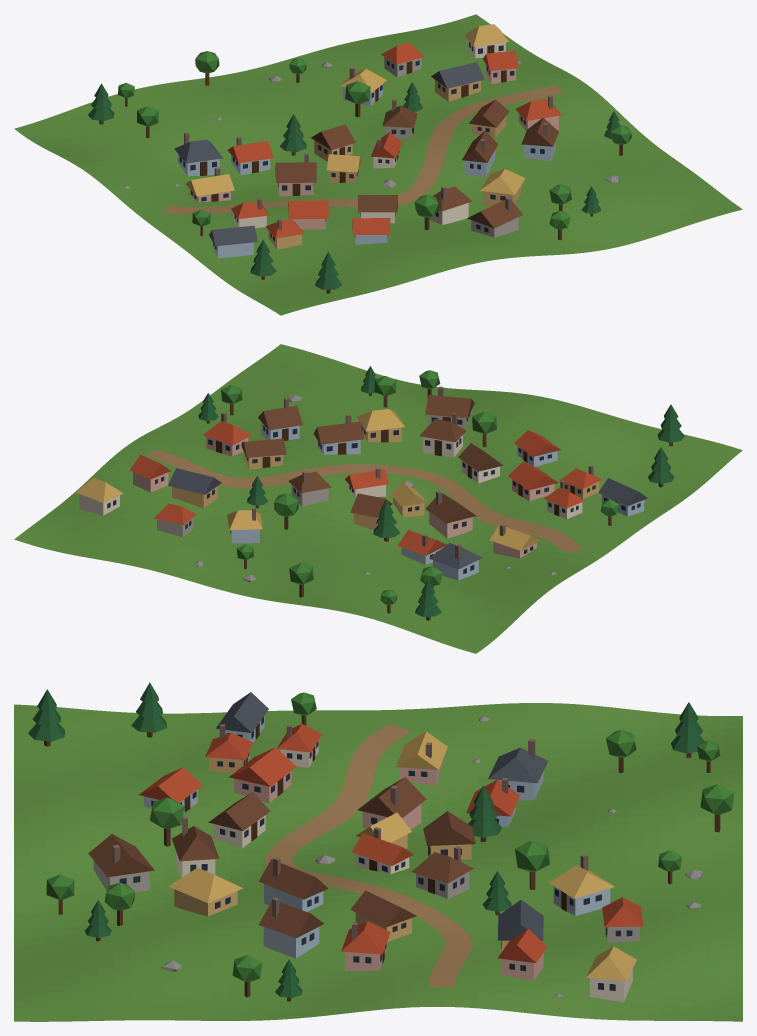
File: village_seed2.glb
3 views of the same model, one above another, from view 1: azimuth 30°, elevation 25°; view 2: azimuth 150°, elevation 25°; view 3: azimuth 270°, elevation 25° (orthographic). The views are drawn at different scales.
Visible parts, largest first — view 1: Ground_and_Path, house_19_roof, house_17_roof, house_04_roof, house_21_roof, house_25_roof, house_15_roof, house_06_roof, house_16_roof, house_23_roof, house_12_roof, house_14_roof (+24 smaller); view 2: Ground_and_Path, house_04_roof, house_11_roof, house_19_roof, house_02_roof, house_06_roof, house_17_roof, house_21_roof, house_25_roof, house_07_roof, house_15_roof, house_10_roof (+25 smaller); view 3: Ground_and_Path, house_04_roof, house_06_roof, house_15_roof, house_11_roof, house_17_roof, house_21_roof, house_19_roof, house_02_roof, house_14_roof, house_16_roof, house_12_roof (+44 smaller).
Boxes of the visible parts, <box> form: Ground_and_Path: <box>14,14,742,315</box>; house_19_roof: <box>431,62,484,88</box>; house_17_roof: <box>275,162,316,182</box>; house_04_roof: <box>467,200,522,228</box>; house_21_roof: <box>479,169,525,194</box>; house_25_roof: <box>209,225,257,246</box>; house_15_roof: <box>174,139,222,163</box>; house_06_roof: <box>288,200,328,219</box>; house_16_roof: <box>186,174,234,196</box>; house_23_roof: <box>227,141,273,163</box>; house_12_roof: <box>358,195,397,212</box>; house_14_roof: <box>311,124,355,149</box>; Ground_and_Path: <box>14,344,742,653</box>; house_04_roof: <box>425,395,474,418</box>; house_11_roof: <box>313,421,364,444</box>; house_19_roof: <box>168,468,221,494</box>; house_02_roof: <box>258,405,302,430</box>; house_06_roof: <box>508,461,558,490</box>; house_17_roof: <box>425,493,476,523</box>; house_21_roof: <box>356,409,404,431</box>; house_25_roof: <box>598,478,647,505</box>; house_07_roof: <box>241,438,286,457</box>; house_15_roof: <box>429,543,482,569</box>; house_10_roof: <box>419,419,466,442</box>; Ground_and_Path: <box>14,703,742,1021</box>; house_04_roof: <box>88,834,154,877</box>; house_06_roof: <box>229,747,296,786</box>; house_15_roof: <box>488,747,548,783</box>; house_11_roof: <box>259,859,328,899</box>; house_17_roof: <box>357,777,426,817</box>; house_21_roof: <box>168,867,242,902</box>; house_19_roof: <box>497,900,543,940</box>; house_02_roof: <box>258,901,324,938</box>; house_14_roof: <box>423,811,475,845</box>; house_16_roof: <box>396,731,447,769</box>; house_12_roof: <box>208,792,270,830</box>.
Bounding box in the file's own units: 70 × 9.12 × 70.
